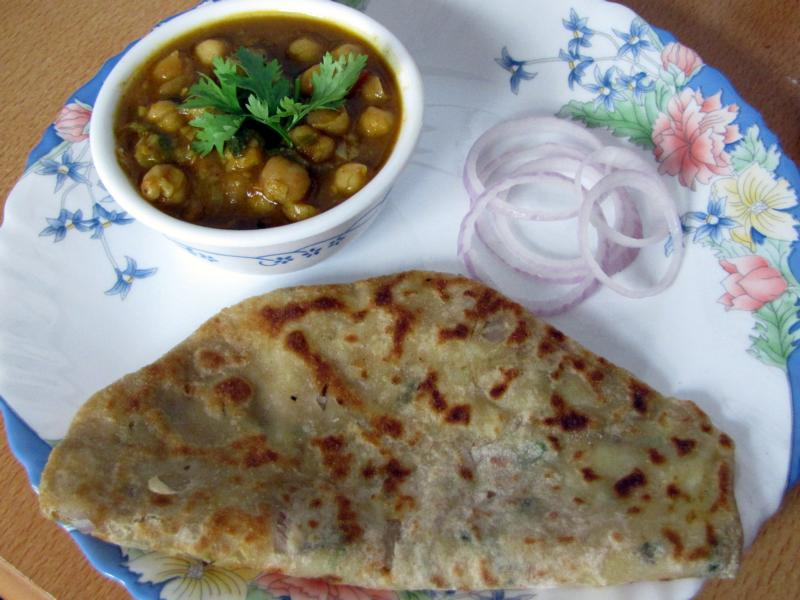aloo_paratha: (33, 271, 748, 587)
